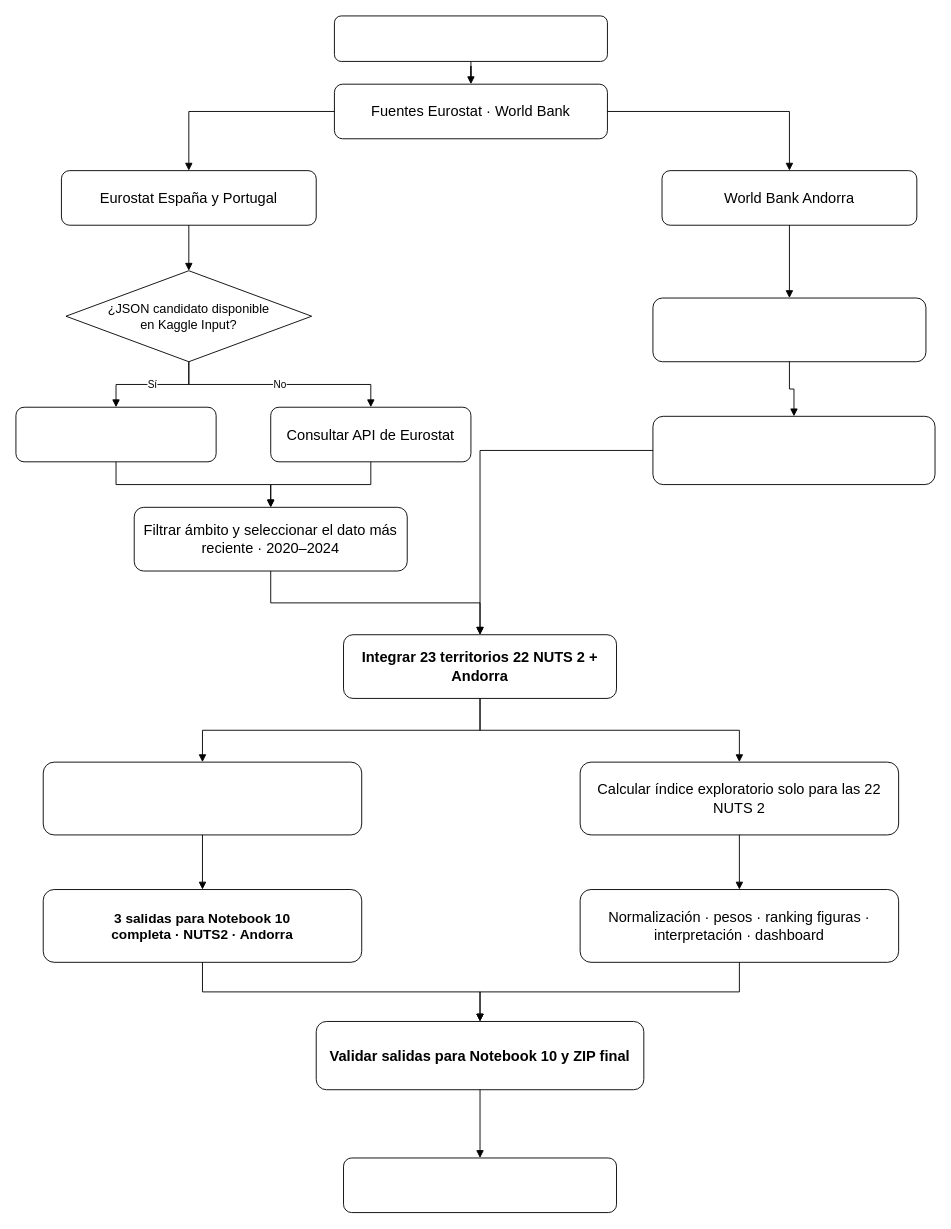
The diagram is 951 pixels wide and 1229 high, and some of its shapes have lost their labels. Each missing label, with the centre of its shape:
"Guardar 5 indicadores originales y sus años de referencia" belongs at (202,798).
"Inicio · Notebook 08" belongs at (470,38).
"Reutilizar JSON preparado" belongs at (115,434).
"Reutilizar JSON preparado / API como respaldo" belongs at (789,329).
"Seleccionar dato más reciente 2020–2024 · Andorra · 4 de 5 indicadores" belongs at (793,450).
"ZIP final del Notebook 08" belongs at (480,1185).
